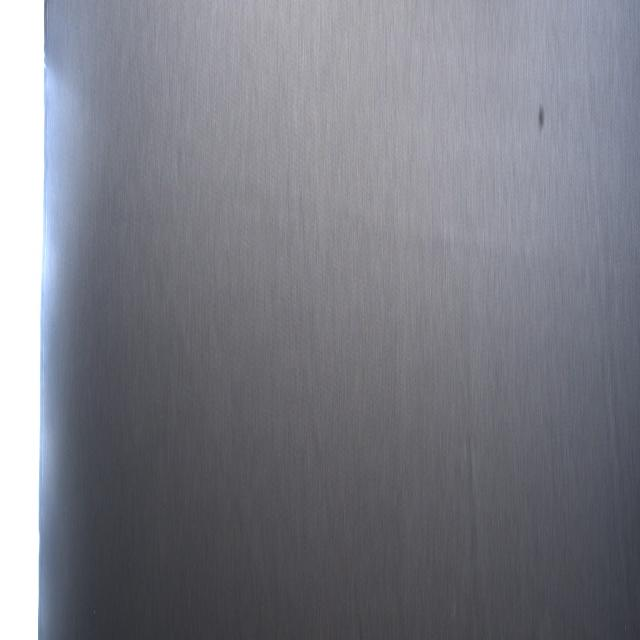crease: (585, 39, 635, 624), (309, 201, 567, 282), (175, 291, 254, 555), (304, 367, 361, 605), (465, 340, 485, 625)
